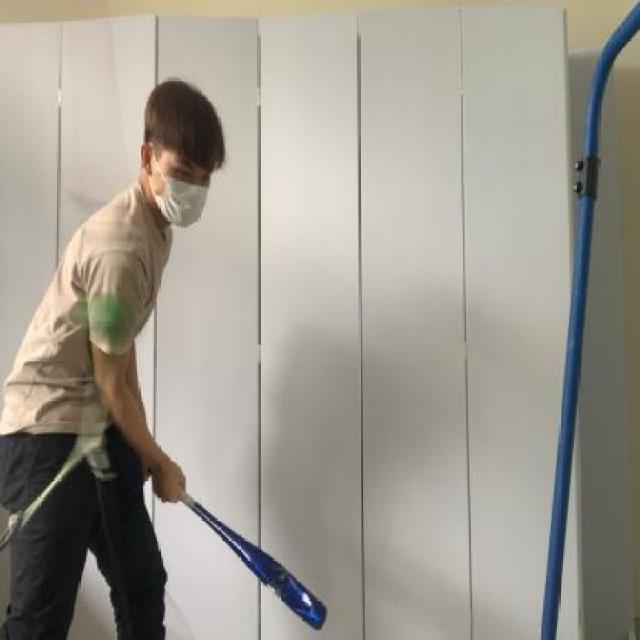baseball: (82, 286, 143, 356)
